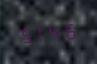five: (18, 22, 32, 45)
four: (48, 20, 62, 42)
one: (33, 21, 47, 44)
six: (63, 18, 77, 41)
